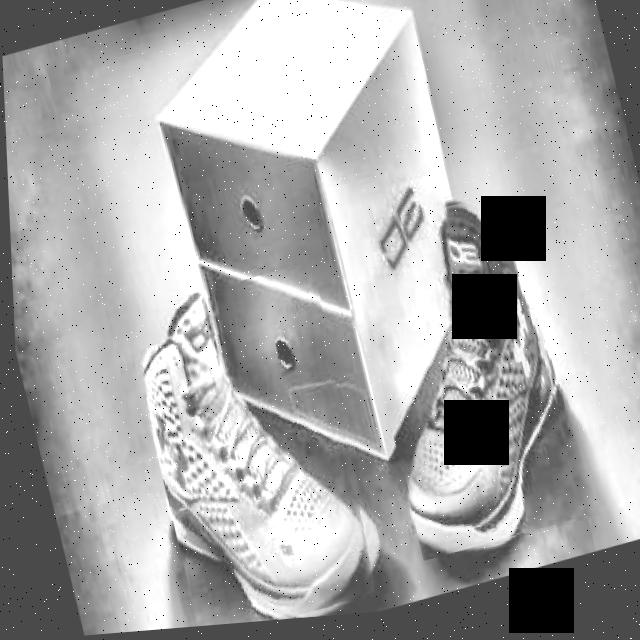shoe: (118, 262, 388, 633), (340, 188, 587, 572)
